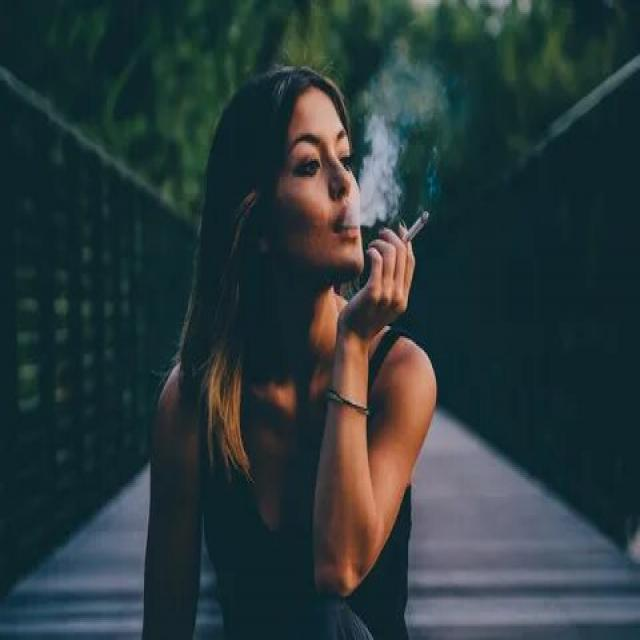cigarette: (395, 207, 437, 250)
